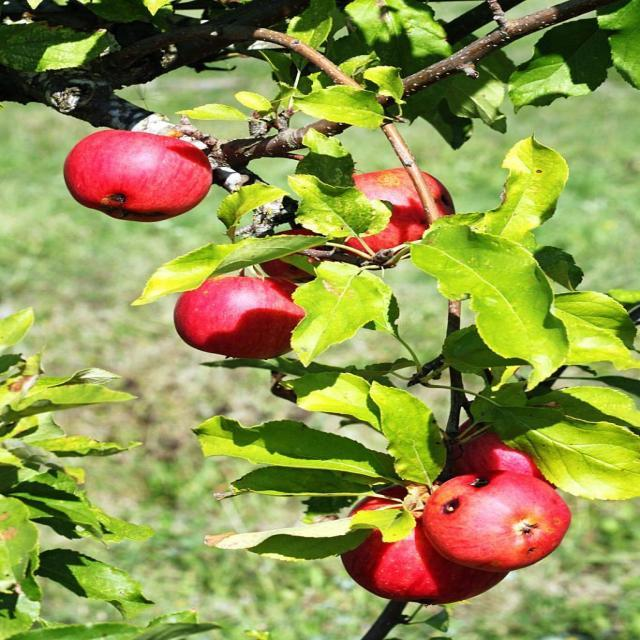Red Apple: (350, 484, 514, 599), (432, 470, 571, 567), (67, 133, 211, 225), (172, 277, 315, 360), (325, 172, 450, 249), (441, 432, 560, 499), (269, 225, 324, 281)
